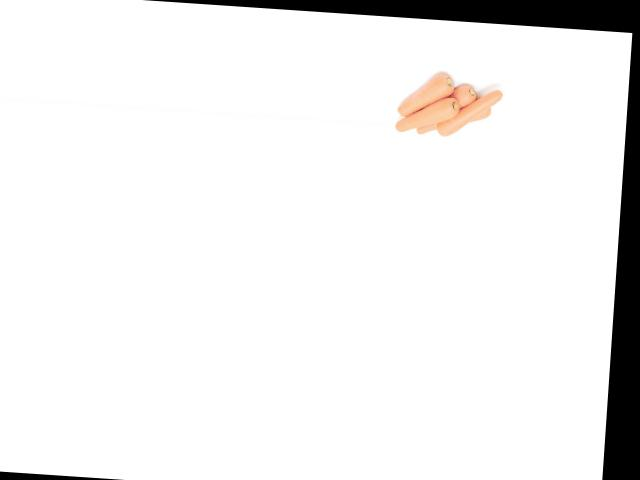carrot: (394, 62, 463, 121)
